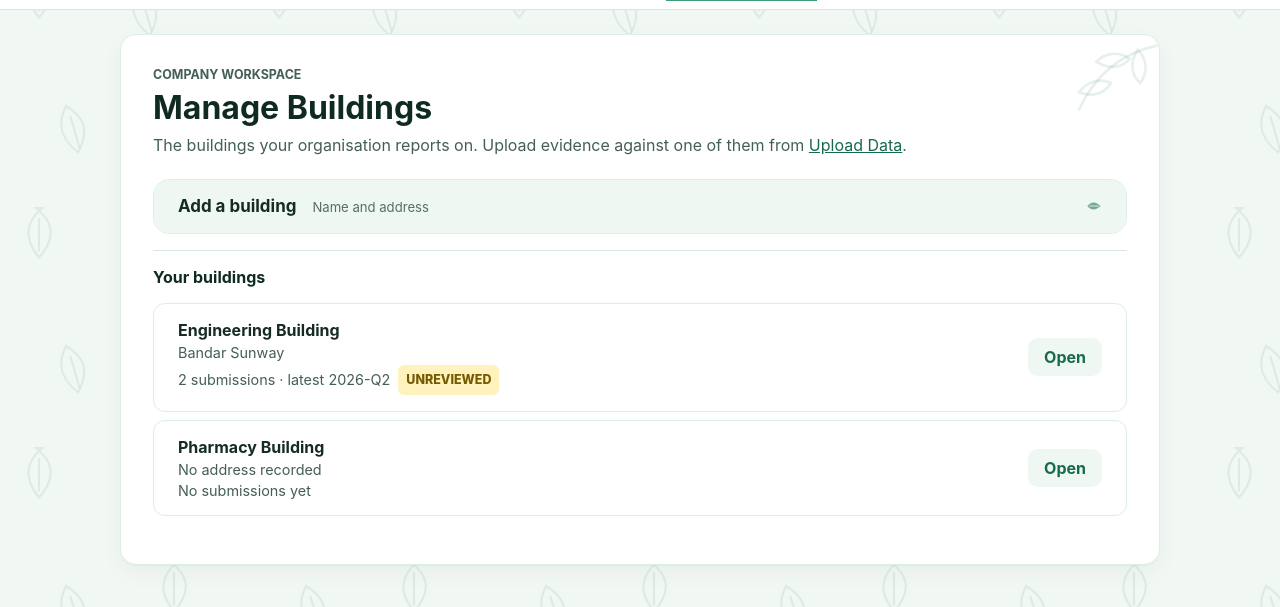
Test: manage buildings › only the name and address can be edited, and that is all that is sent
Check: the heading "Engineering Building" is shown, box [178,320,340,340]
Click the button "Open" in the row of "Bandar Sunway".
click(1065, 357)  # box [1028,338,1102,376]
(page scrolled)
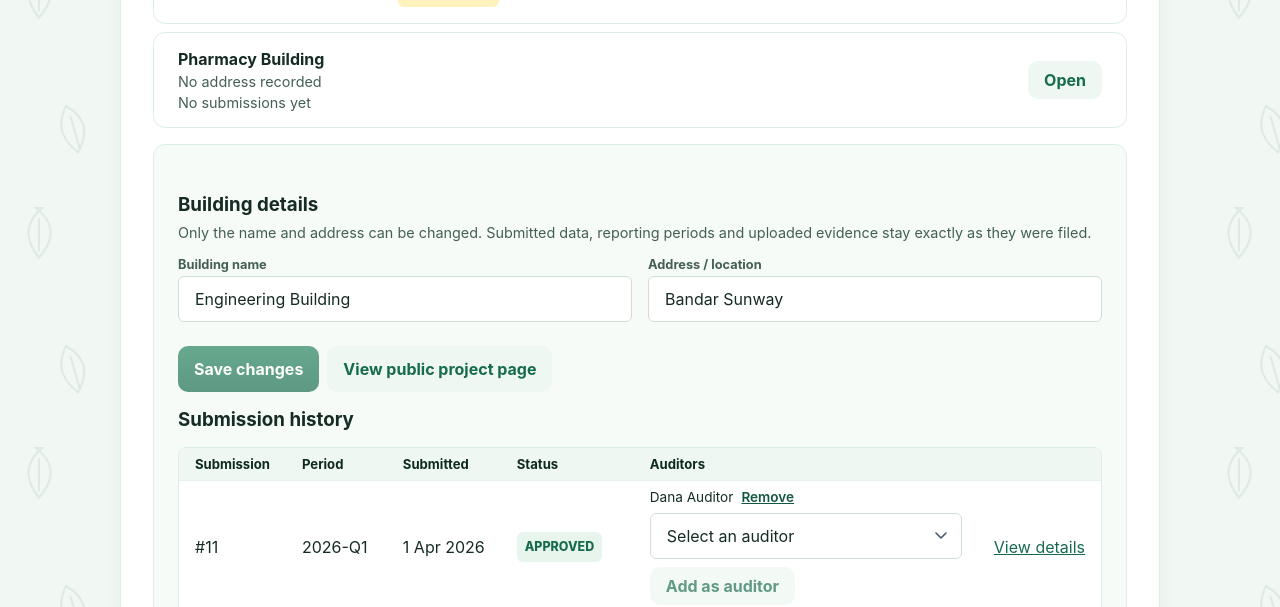
Replace the text in the field labelled "Building name" with "Engineering Building A" at (405, 299), box [178,276,632,322]
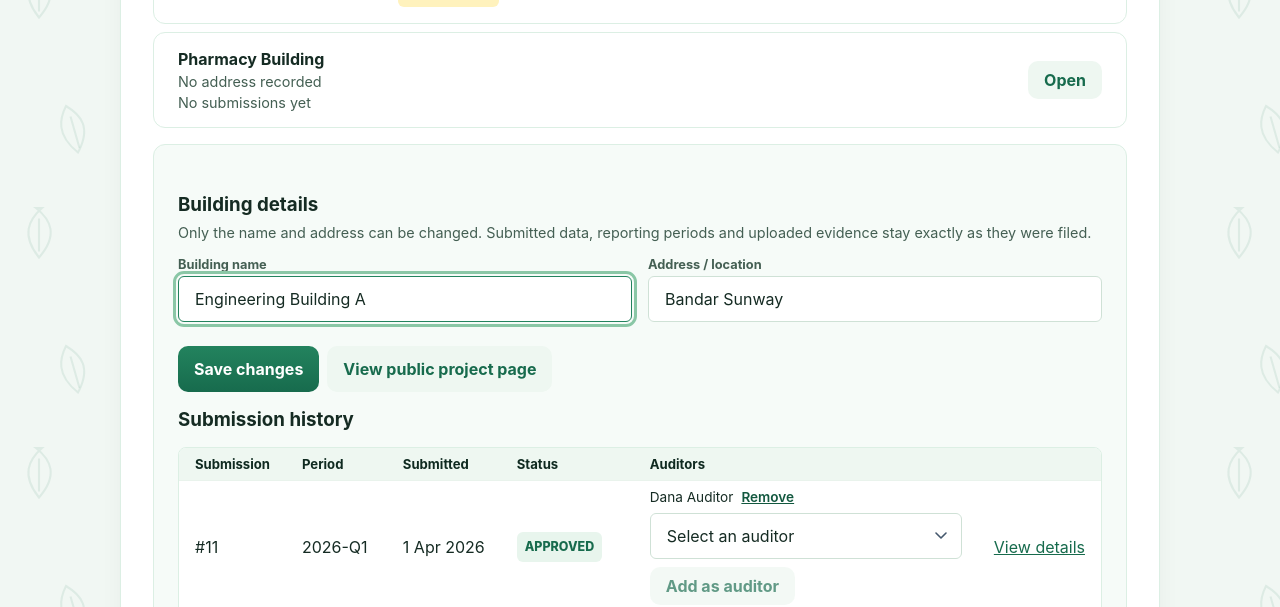
Replace the text in the field labelled "Address / location" with "Jalan Lagoon" at (875, 299), box [648,276,1102,322]
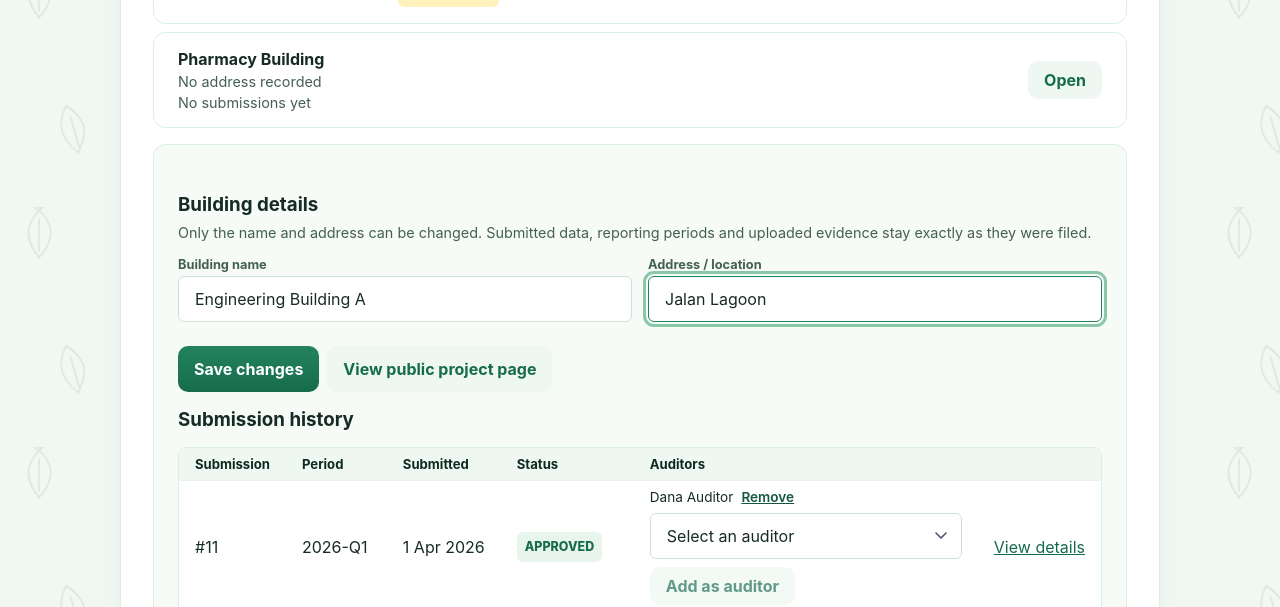
Click the button "Save changes".
click(249, 369)  # box [178,346,319,392]
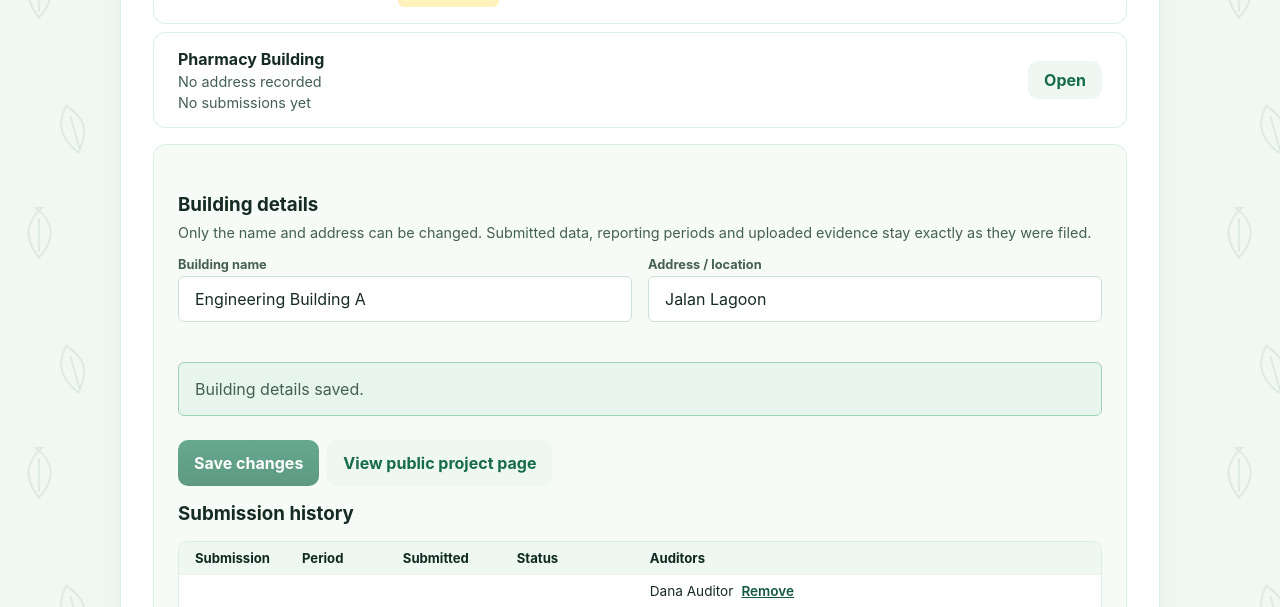
Check: the text "Building details saved." is shown, box [178,362,1102,416]
